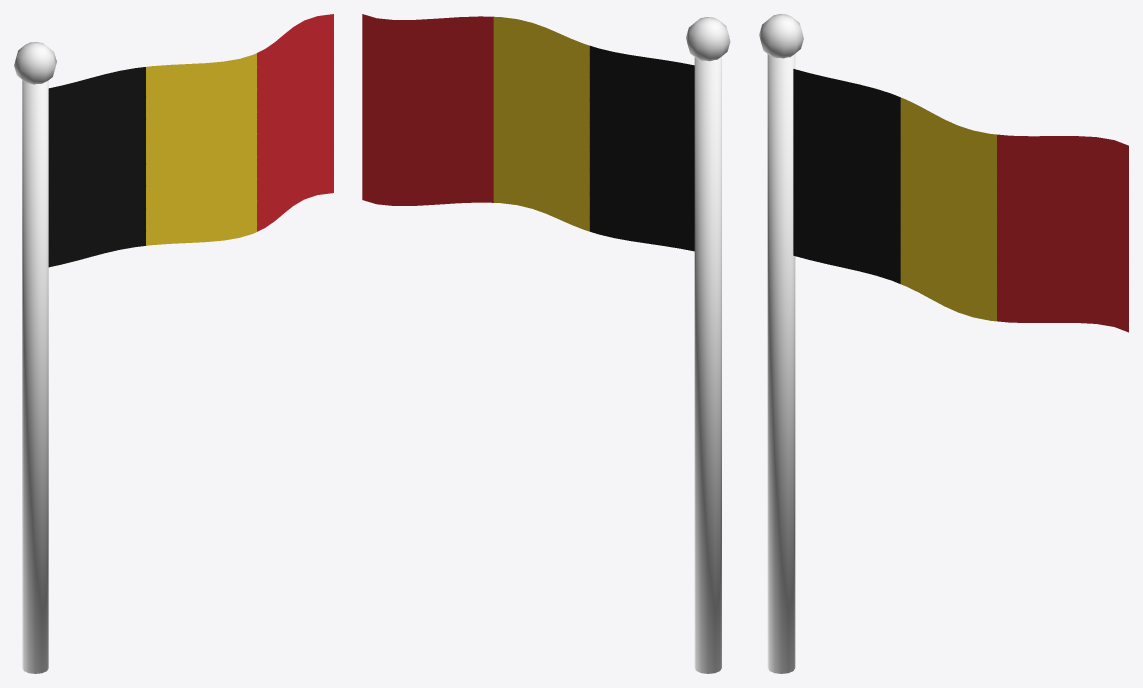
The model's file is FlagPole.glb.
3 views of the same model, side by side, from view 1: azimuth 30°, elevation 25°; view 2: azimuth 150°, elevation 25°; view 3: azimuth 330°, elevation 25° (orthographic). The views are drawn at different scales.
Parts seen in each view (by area): view 1: WaveFlagBelgium, WavePoleUSA; view 2: WaveFlagBelgium, WavePoleUSA; view 3: WaveFlagBelgium, WavePoleUSA.
Part boxes in pixels (x1,y1,x2,y2): WaveFlagBelgium: [48, 14, 333, 267]; WavePoleUSA: [14, 42, 56, 673]; WaveFlagBelgium: [362, 14, 694, 251]; WavePoleUSA: [686, 17, 730, 673]; WaveFlagBelgium: [793, 69, 1128, 332]; WavePoleUSA: [759, 14, 803, 673].
Size of the model in its own units: 0.8776 by 1.57 by 0.1342.
Materials: 7 (6 with a texture image).
